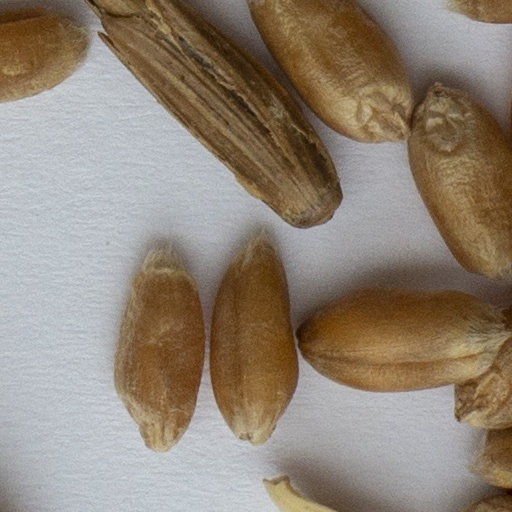Peel-poly: (88, 0, 342, 225), (266, 474, 342, 511)
